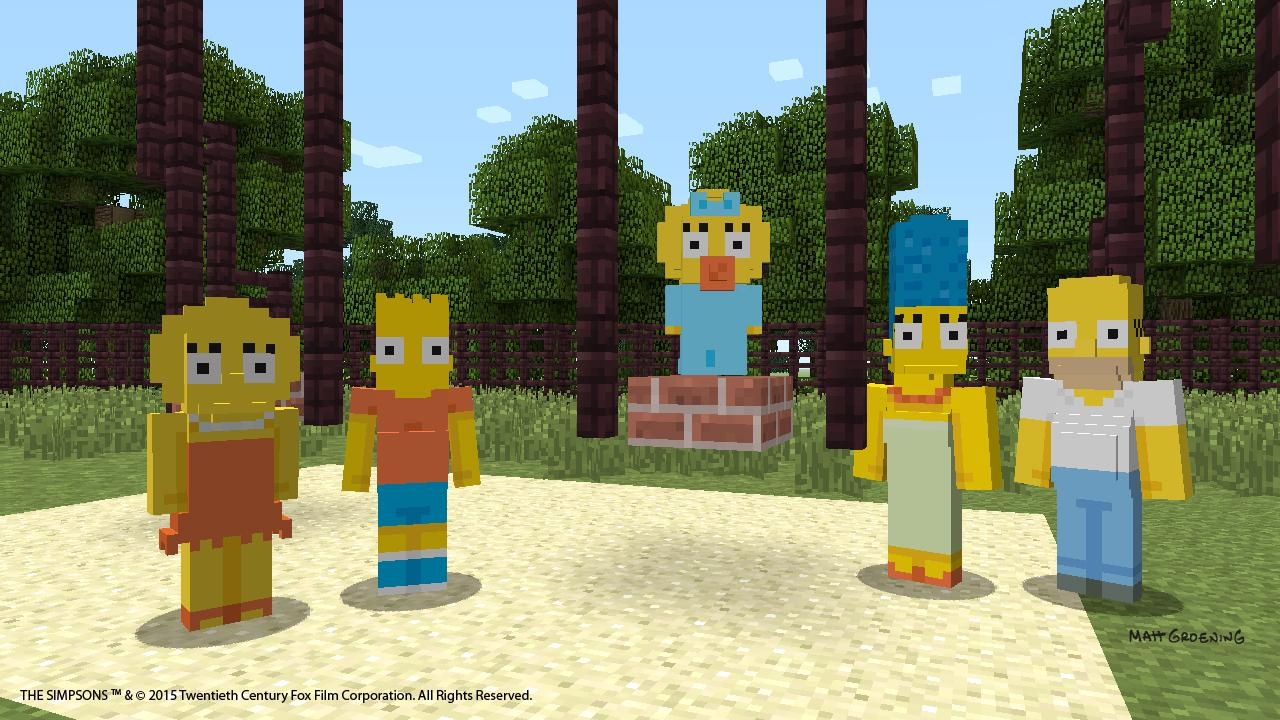Bart: (331, 270, 520, 630)
Homer: (1012, 257, 1186, 602)
Lisa: (109, 283, 317, 662)
Maggie: (649, 187, 783, 390)
Marge: (863, 209, 1007, 605)
